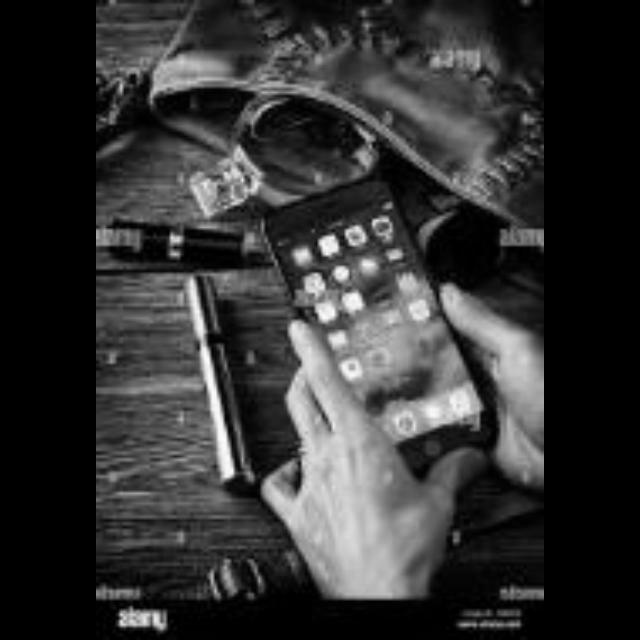fake: (244, 171, 508, 501)
